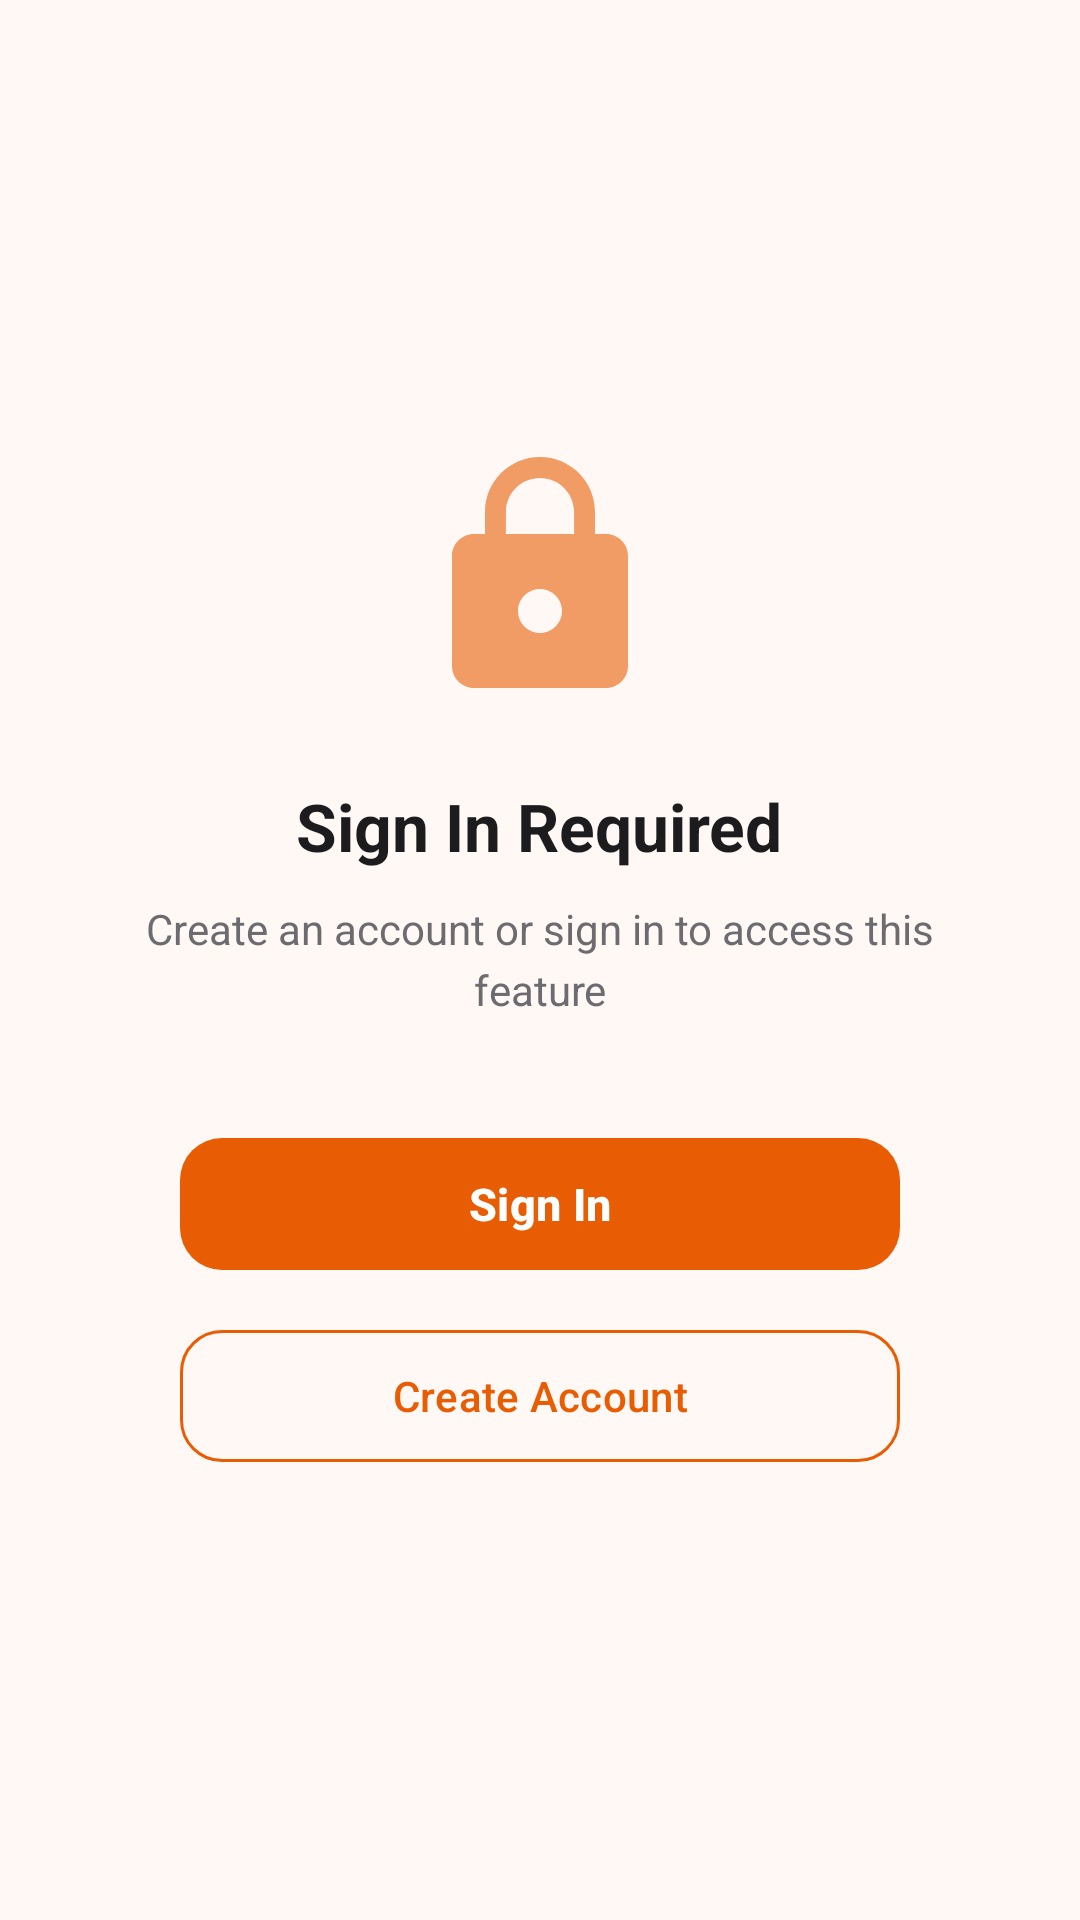

Icon click points for this 1080px×1920px phone screenshot, format [x,y]:
lock: [540,572]
